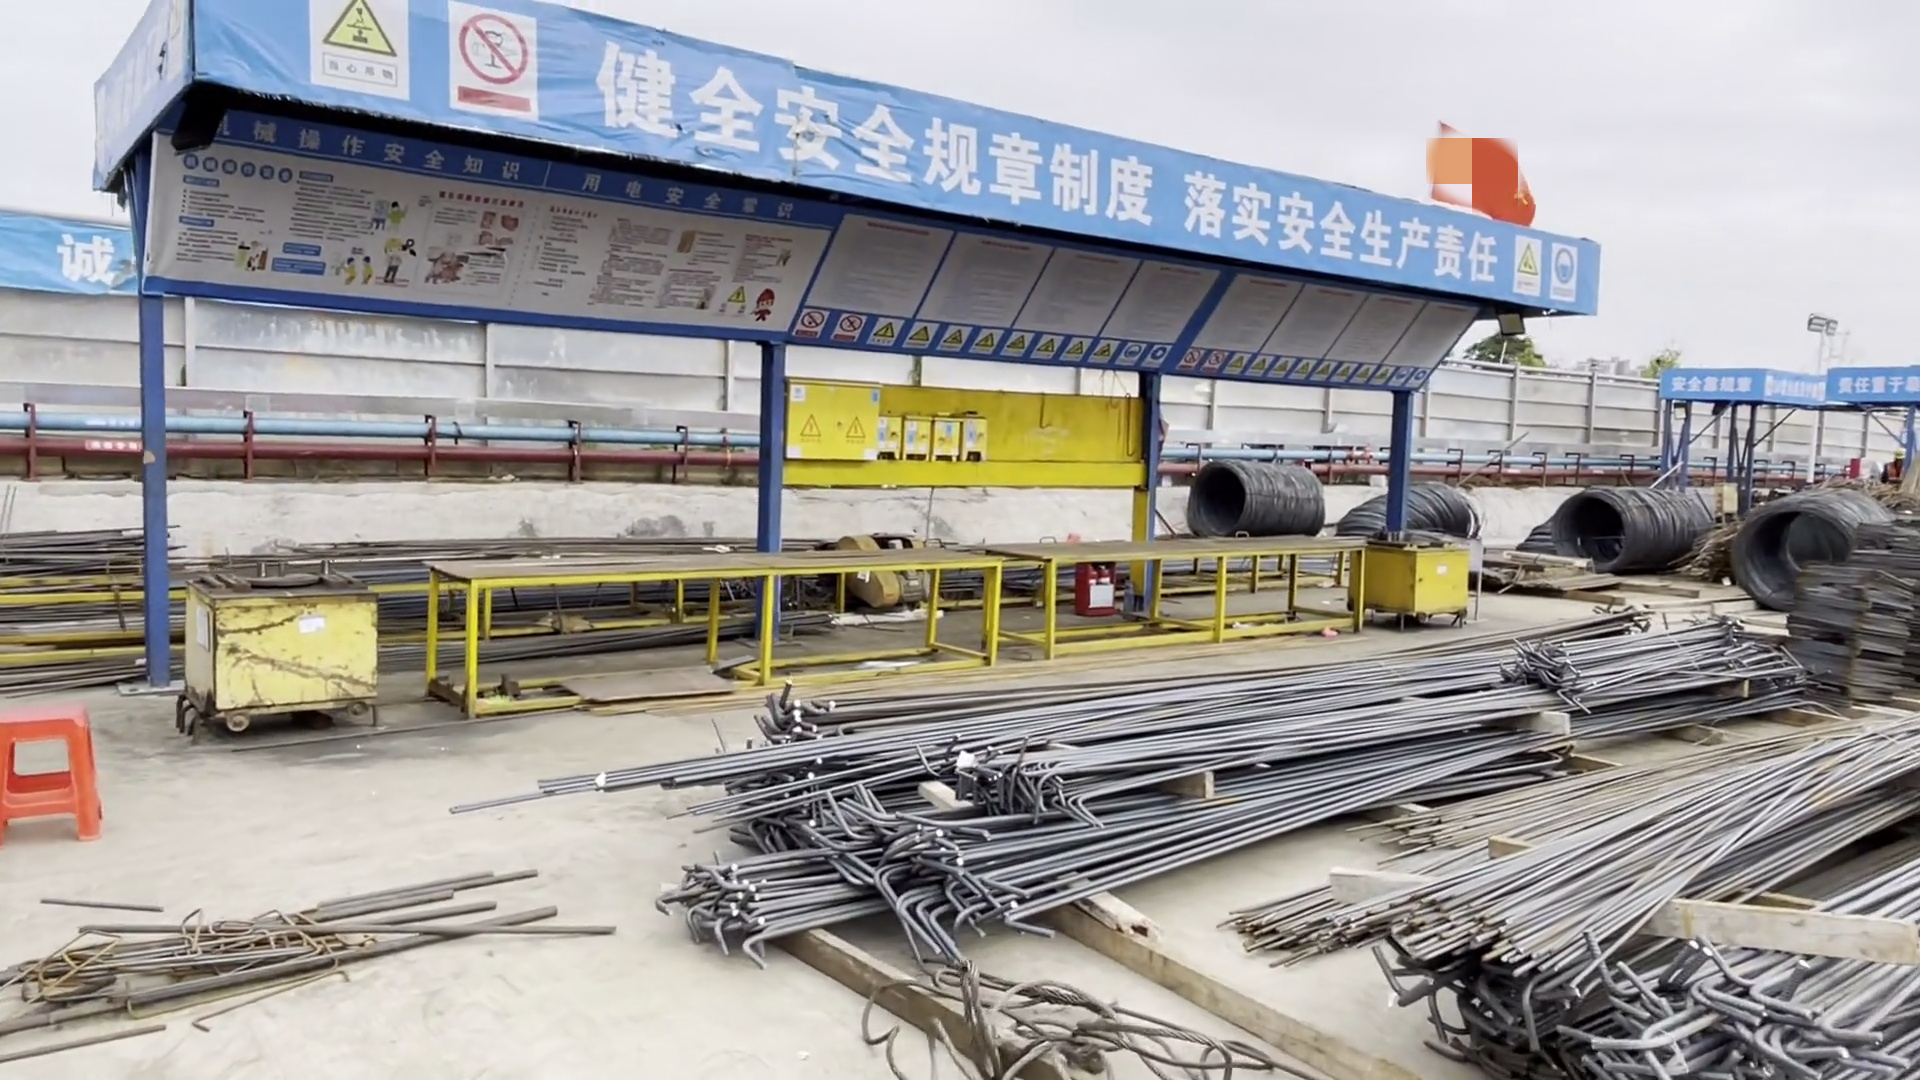cutter: (186, 581, 396, 733), (1359, 531, 1471, 623)
ebox: (776, 379, 882, 464)
person: (1881, 449, 1899, 477)
rebar: (618, 638, 1538, 952), (1266, 691, 1920, 1080), (1517, 621, 1777, 723)
slogan: (195, 1, 1607, 322), (792, 314, 1424, 399), (1653, 367, 1920, 412), (1, 208, 135, 294)
